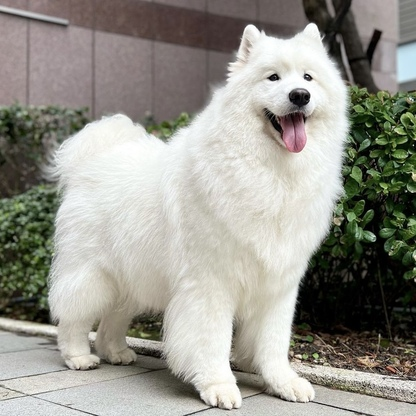samoyed: (41, 19, 355, 412)
